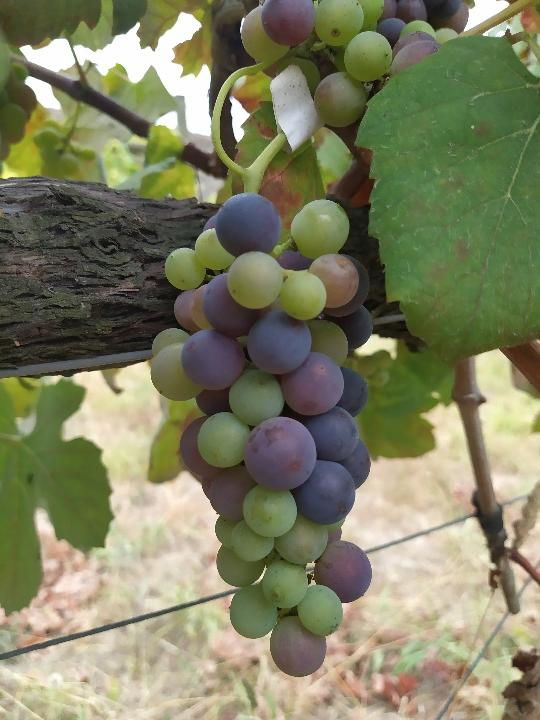grape: (147, 189, 377, 681)
